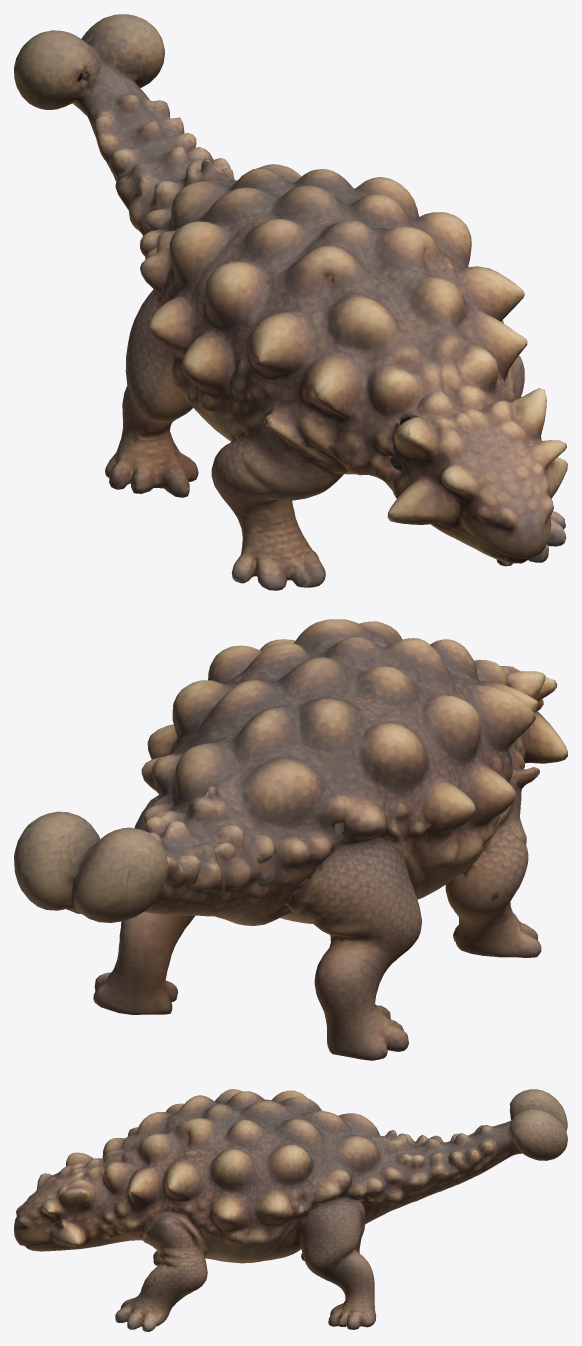
3 renders of one model, top to bottom at view 1: azimuth 30°, elevation 25°; view 2: azimuth 150°, elevation 25°; view 3: azimuth 270°, elevation 25°, orthographic. The views are drawn at different scales.
Parts seen in each view (by area): view 1: geometry_0; view 2: geometry_0; view 3: geometry_0.
Boxes of the visible parts, x1,y1,x2,y2 form: geometry_0: (14, 14, 567, 590); geometry_0: (14, 619, 567, 1060); geometry_0: (14, 1089, 567, 1331).
Bounding box in the file's own units: 2.22 × 2.07 × 5.5.
1 material, 1 textured.
